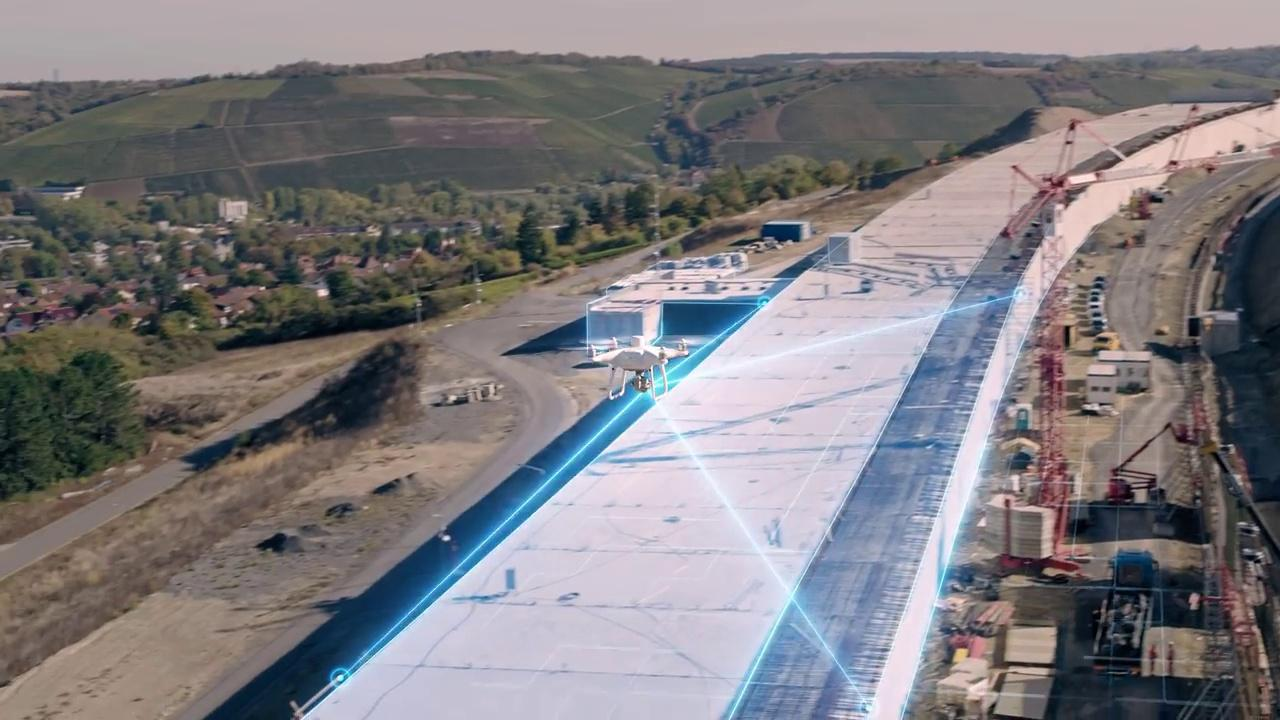drone: (570, 332, 713, 402)
